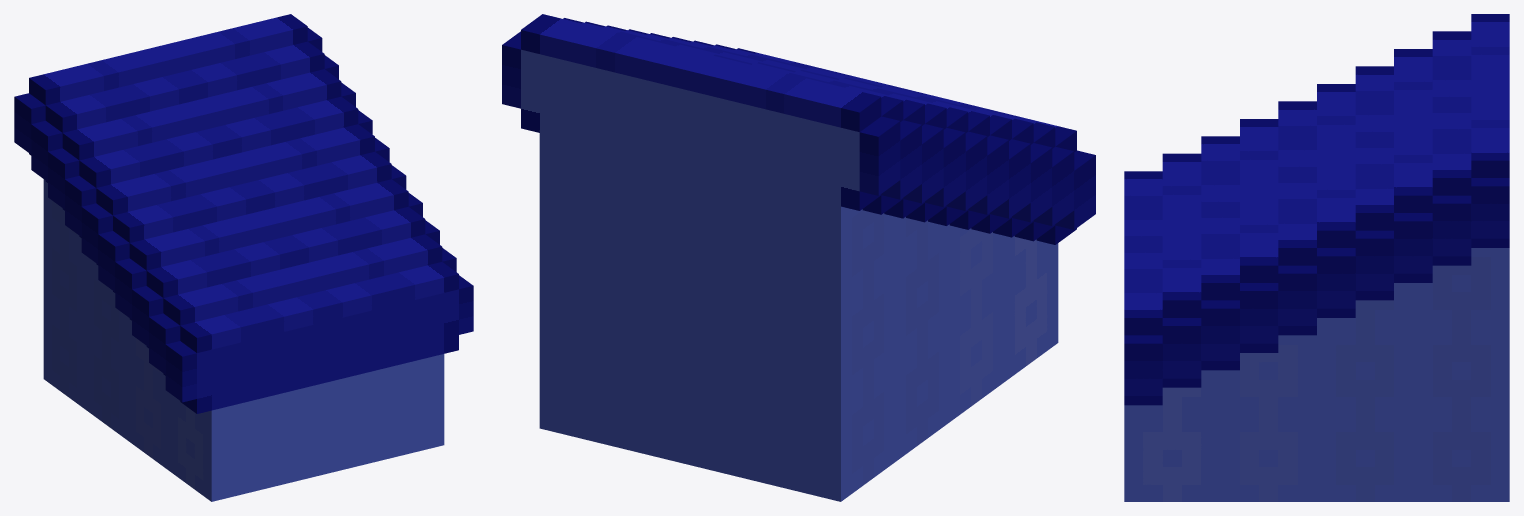
Rendered from half_ramp_full.glb.
3 renders of one model, left to right at view 1: azimuth 30°, elevation 25°; view 2: azimuth 150°, elevation 25°; view 3: azimuth 270°, elevation 25°, orthographic. The views are drawn at different scales.
Parts seen in each view (by area): view 1: half_ramp_full; view 2: half_ramp_full; view 3: half_ramp_full.
Boxes of the visible parts, x1,y1,x2,y2 form: half_ramp_full: [14, 14, 473, 501]; half_ramp_full: [502, 14, 1095, 501]; half_ramp_full: [1124, 14, 1509, 501].
Bounding box in the file's own units: 2 × 2 × 2.
Materials: 1 (1 with a texture image).
